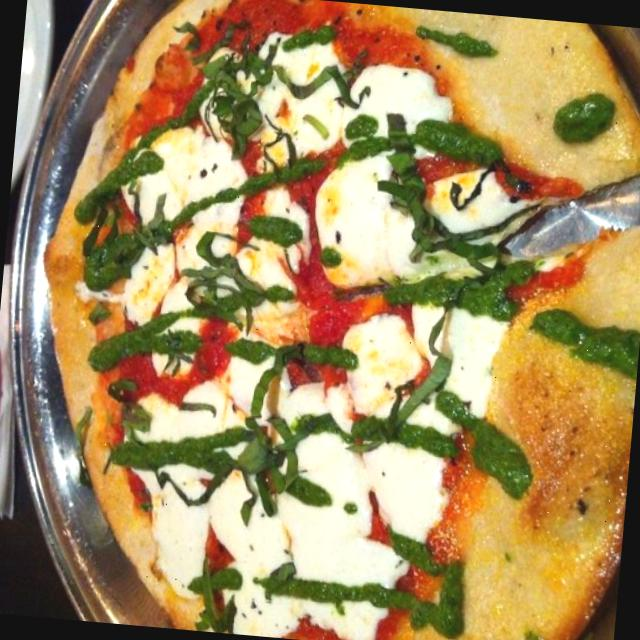cheese: (345, 306, 483, 411), (304, 160, 412, 288), (292, 445, 362, 584), (350, 448, 452, 536), (215, 488, 296, 566), (138, 489, 202, 583), (354, 63, 448, 123), (148, 130, 235, 192), (118, 244, 190, 314), (173, 197, 245, 261), (156, 380, 226, 440), (262, 92, 334, 144), (305, 595, 381, 640), (433, 180, 502, 228), (228, 596, 304, 638), (268, 380, 344, 420), (274, 41, 323, 79), (228, 352, 256, 408)
pizza: (44, 0, 640, 640)
